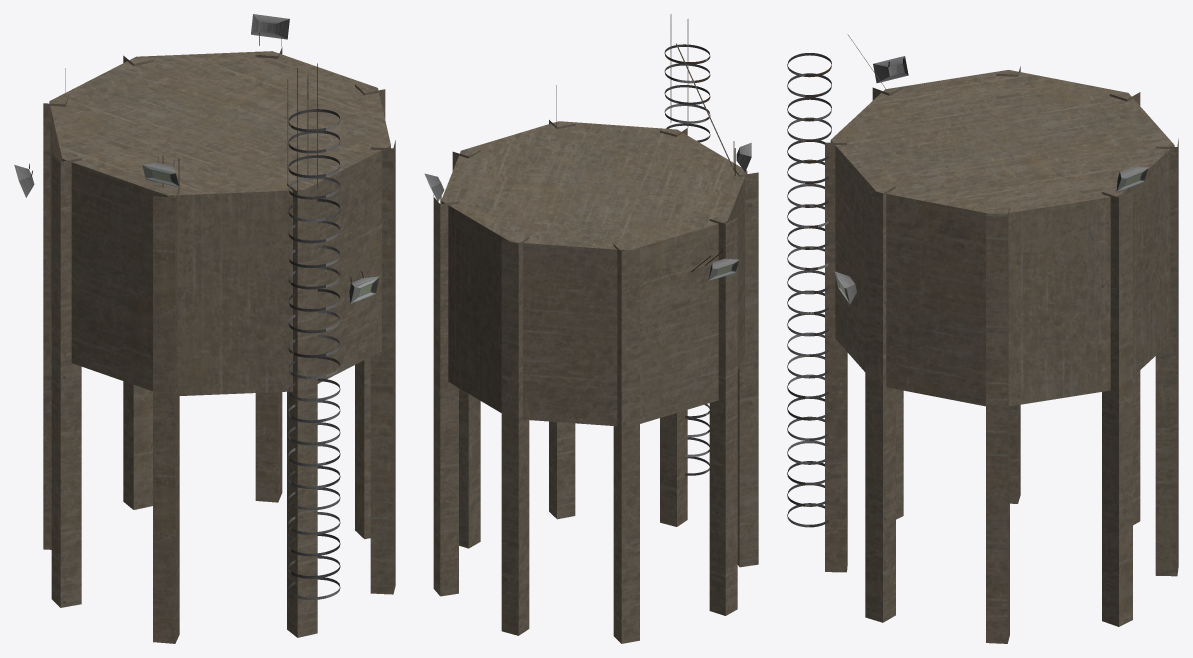
File: LLHZ_watertower.gltf
The picture shows the model from 3 angles, left to right: view 1: azimuth 30°, elevation 25°; view 2: azimuth 150°, elevation 25°; view 3: azimuth 270°, elevation 25°; orthographic projection. The views are drawn at different scales.
Parts seen in each view (by area): view 1: node1; view 2: node1; view 3: node1.
Part boxes in pixels (x1,y1,x2,y2): node1: [14, 14, 395, 643]; node1: [424, 14, 758, 643]; node1: [787, 34, 1178, 643].
Size of the model in its own units: 9.96 by 15.88 by 10.26.
